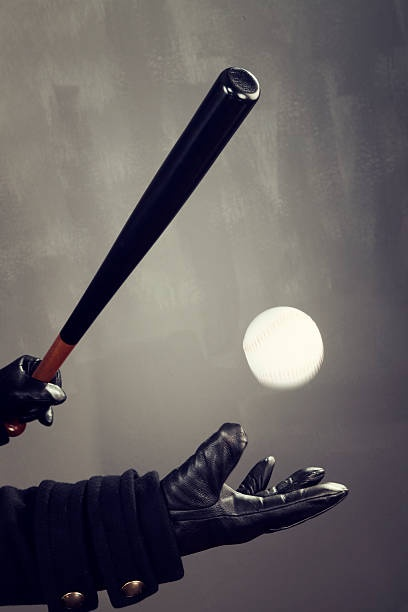bita: (19, 68, 264, 392)
